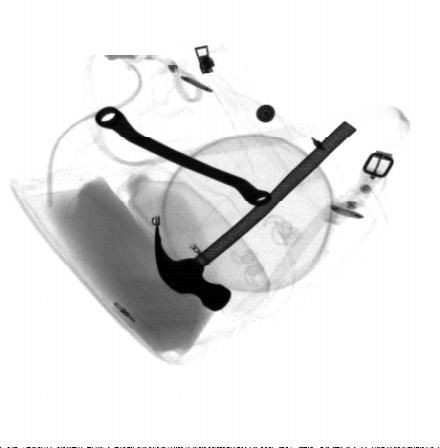Hammer: (150, 118, 356, 313)
Wrench: (94, 103, 272, 205)
